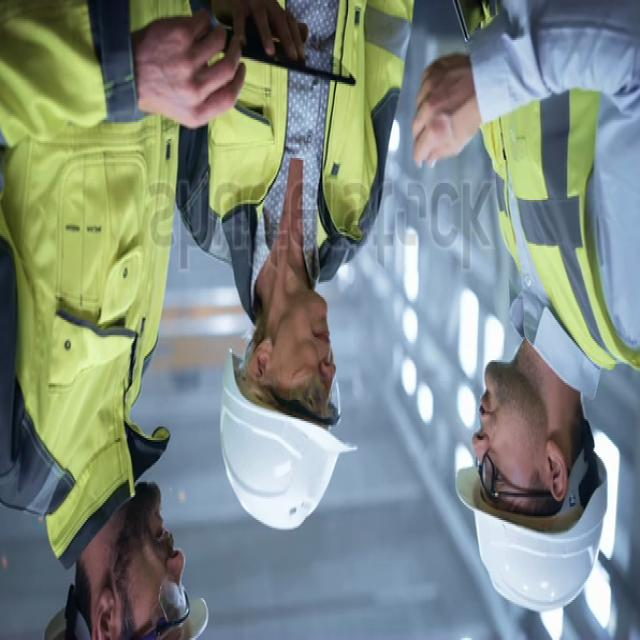goggles: (466, 437, 554, 515), (248, 364, 344, 425), (142, 568, 190, 628)
